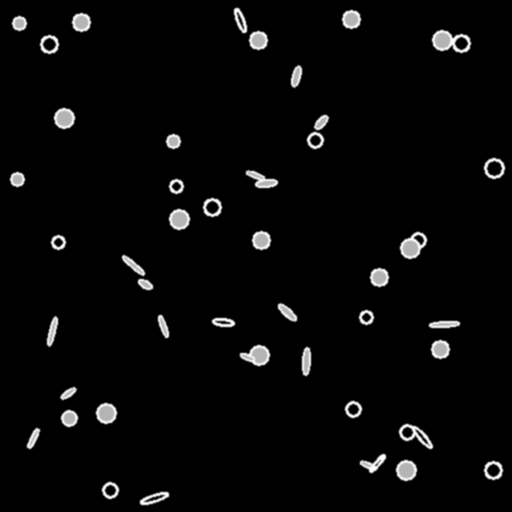pseudomonas: (121, 254, 145, 276), (411, 425, 433, 449), (139, 490, 169, 506), (276, 302, 298, 322), (368, 453, 386, 473), (46, 316, 58, 346), (233, 8, 247, 32), (26, 427, 40, 449), (157, 314, 169, 338), (313, 114, 329, 130), (245, 169, 265, 181), (429, 320, 459, 328), (60, 386, 76, 400), (291, 65, 301, 87), (302, 348, 310, 374), (137, 278, 153, 290), (255, 179, 277, 187), (360, 460, 376, 470), (239, 352, 255, 362), (213, 318, 233, 326)
synechocystis: (397, 461, 415, 479), (170, 210, 188, 228), (250, 346, 268, 364), (97, 404, 115, 422), (55, 109, 73, 127), (485, 159, 503, 177), (433, 31, 451, 49), (401, 239, 419, 257), (453, 35, 469, 51), (41, 36, 57, 52), (73, 14, 89, 30), (485, 462, 501, 478), (432, 341, 448, 357), (250, 32, 266, 48), (343, 11, 359, 27), (253, 232, 269, 248), (371, 269, 387, 285), (204, 199, 220, 215), (103, 483, 117, 497), (400, 425, 414, 439), (346, 402, 360, 416), (62, 411, 76, 425), (308, 133, 322, 147), (411, 233, 425, 247), (52, 236, 64, 248), (360, 311, 372, 323), (13, 17, 25, 29), (170, 180, 182, 192), (167, 135, 179, 147), (11, 173, 23, 185)
